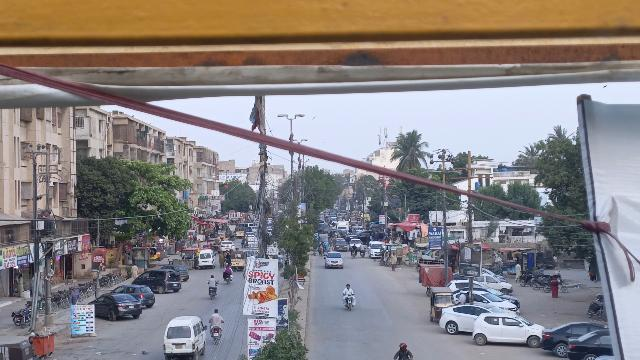Bike: (209, 325, 223, 346), (342, 294, 356, 311), (206, 286, 217, 301), (224, 275, 232, 287)
Car: (471, 312, 547, 348), (540, 319, 600, 357), (440, 304, 506, 334), (87, 292, 142, 321), (456, 289, 522, 313), (564, 327, 609, 359), (130, 269, 183, 292), (110, 285, 157, 308), (324, 250, 346, 270)
Person: (393, 341, 414, 360), (207, 307, 225, 328), (68, 285, 81, 304), (342, 282, 356, 296), (206, 274, 218, 286), (222, 264, 234, 276)
Rickshaw: (427, 285, 454, 327)
Van: (163, 314, 206, 359), (196, 248, 216, 271)
